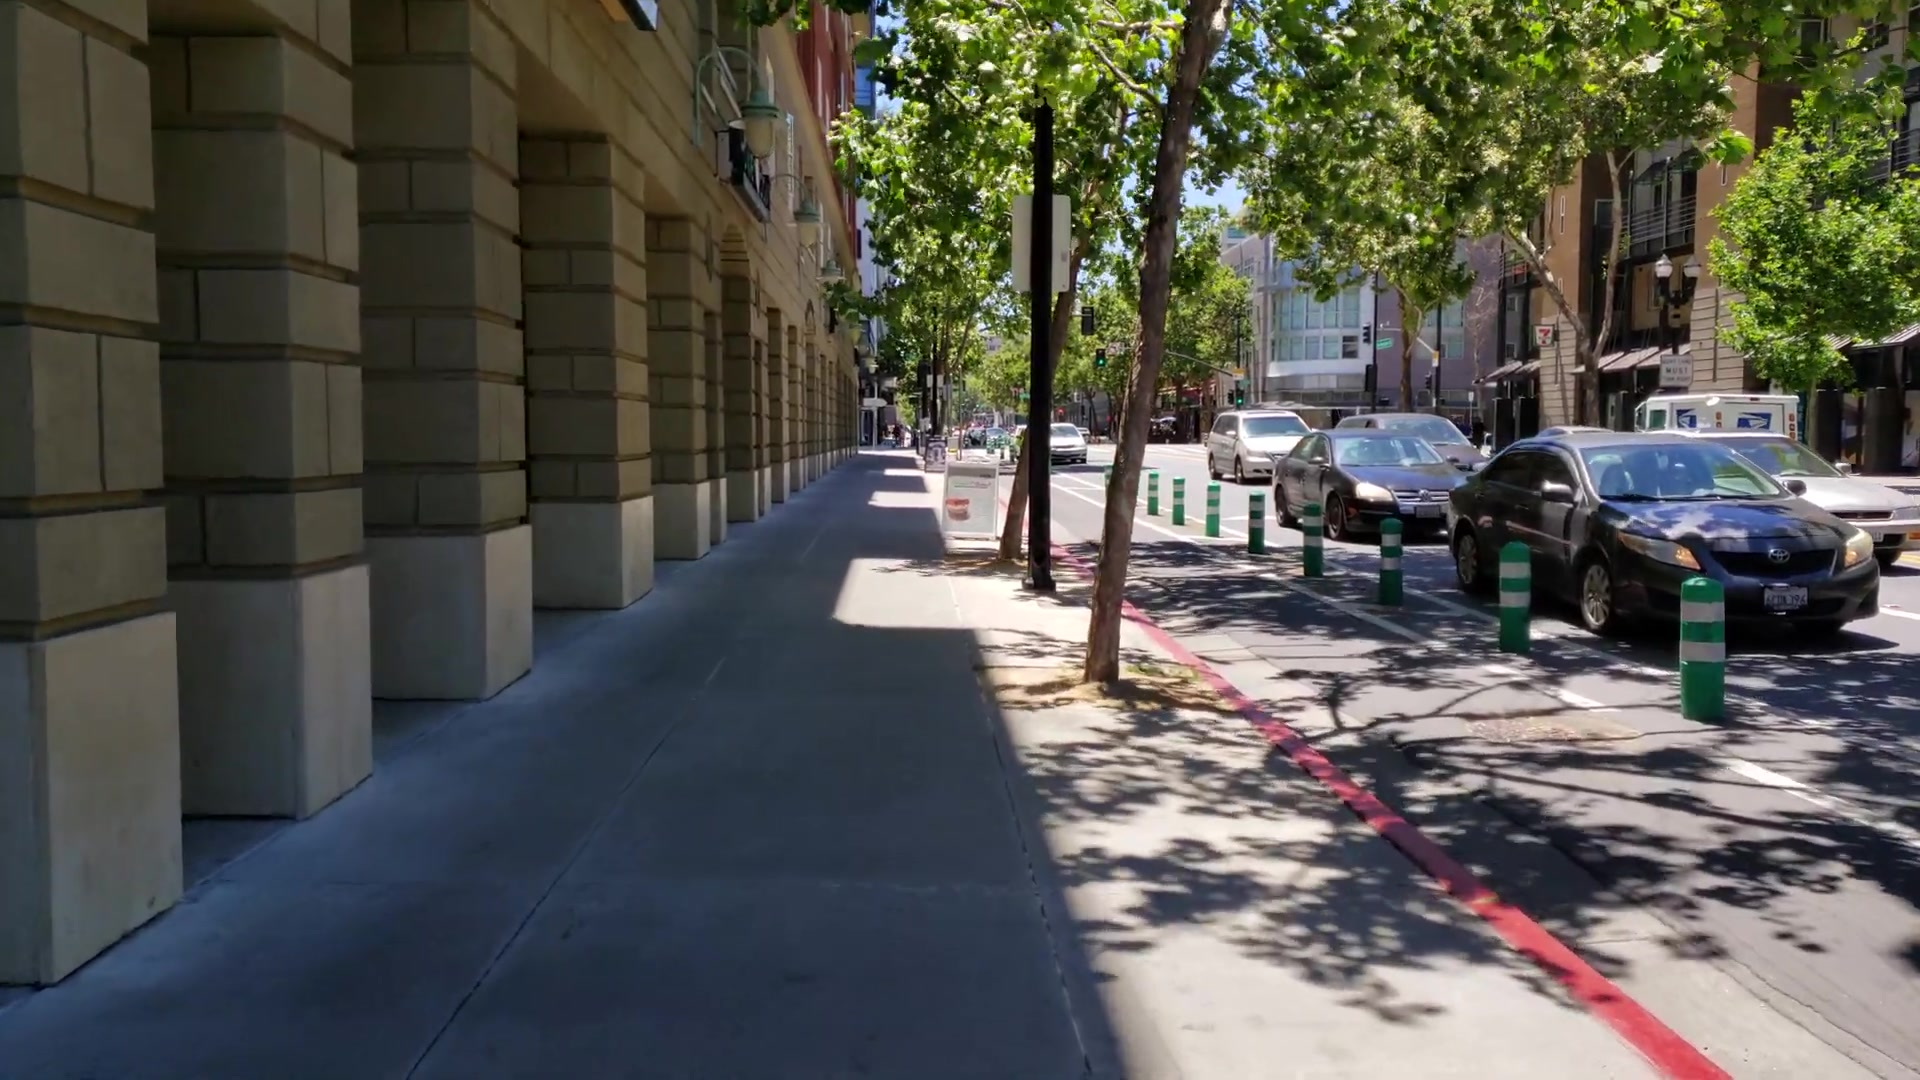vehicle: (1453, 433, 1879, 636), (1273, 434, 1468, 531)
